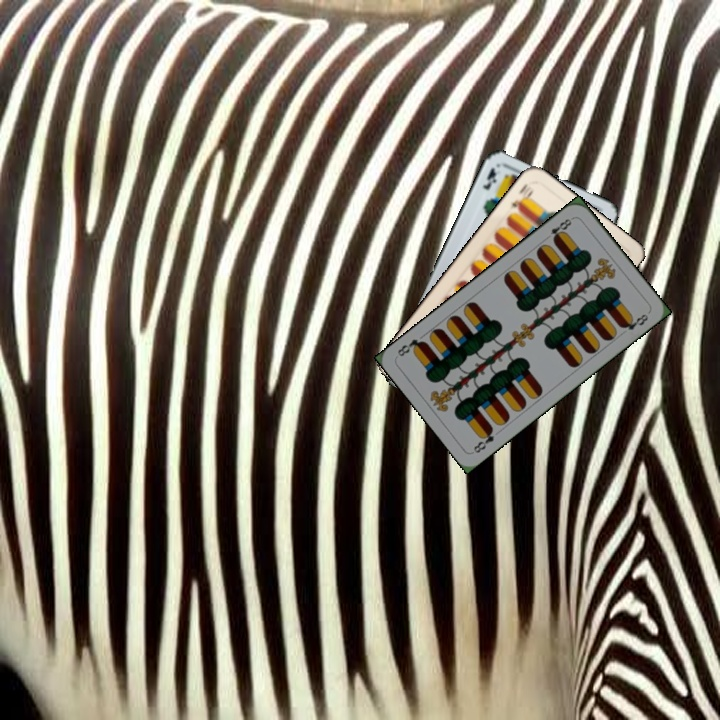E10: (507, 179, 536, 214)
E8: (541, 214, 576, 244), (469, 423, 497, 456)
EK: (478, 164, 499, 192)
